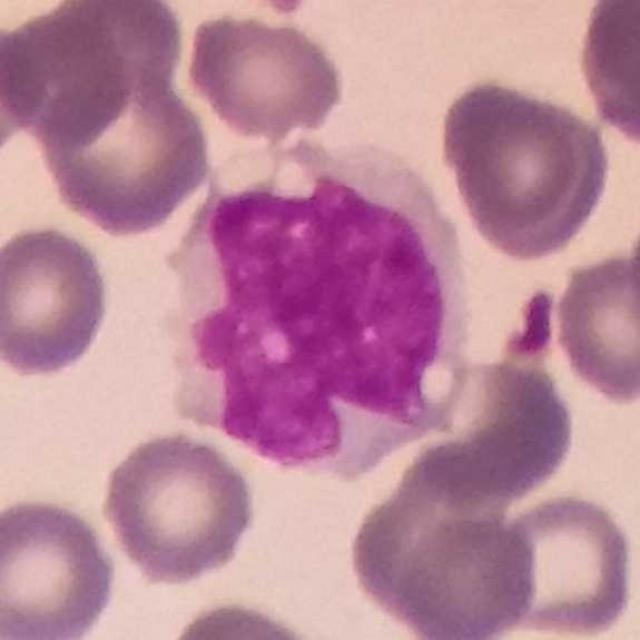mono: (160, 127, 467, 486)
